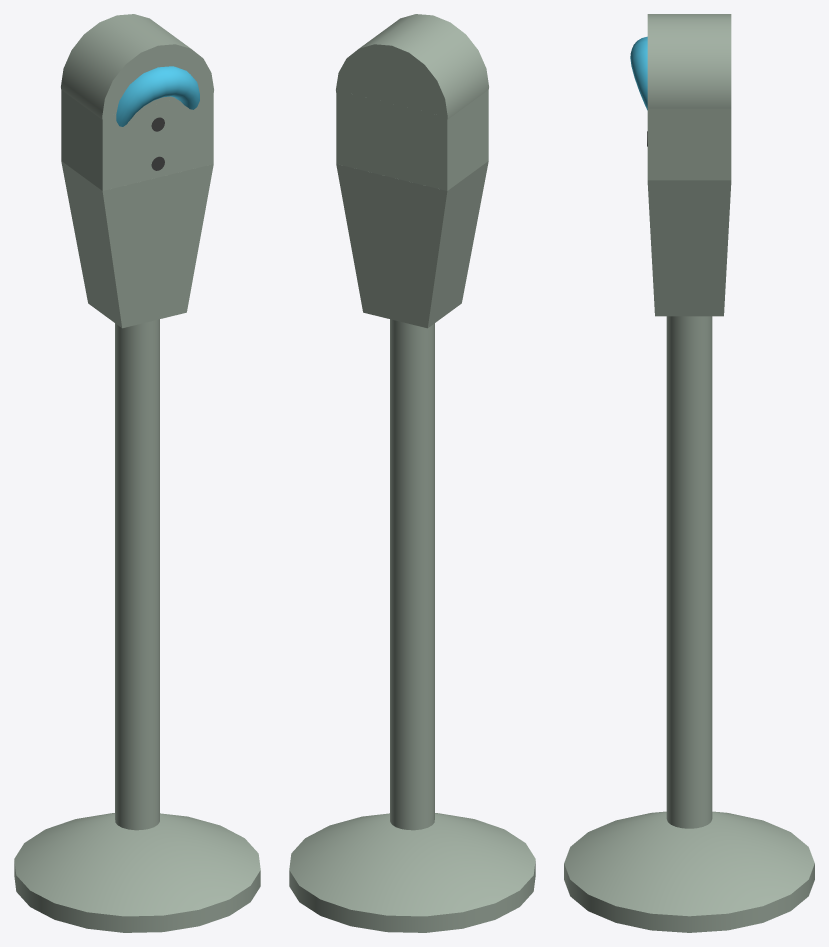
The model's file is PayToPark.fbx.
3 views of the same model, side by side, from view 1: azimuth 30°, elevation 25°; view 2: azimuth 150°, elevation 25°; view 3: azimuth 270°, elevation 25° (orthographic).
Parts seen in each view (by area): view 1: Pole.002, pCone4, pCube40, pCube41, pCylinder39, Base.004, Glass2; view 2: Pole.002, pCone4, pCube40, pCube41, pCylinder39, Base.004; view 3: Pole.002, pCone4, pCube40, pCylinder39, pCube41, Base.004, Glass2.
Boxes of the visible parts, <box> form: Pole.002: <box>115,319,159,830</box>; pCone4: <box>14,813,260,916</box>; pCube40: <box>61,161,213,328</box>; pCube41: <box>61,90,213,190</box>; pCylinder39: <box>61,14,213,119</box>; Base.004: <box>14,861,260,932</box>; Glass2: <box>116,66,199,126</box>; Pole.002: <box>390,319,434,830</box>; pCone4: <box>289,813,535,916</box>; pCube40: <box>336,161,488,328</box>; pCube41: <box>336,90,488,190</box>; pCylinder39: <box>336,14,488,119</box>; Base.004: <box>289,861,535,932</box>; Pole.002: <box>666,316,712,828</box>; pCone4: <box>564,811,814,916</box>; pCube40: <box>647,180,731,316</box>; pCylinder39: <box>647,14,731,108</box>; pCube41: <box>647,108,731,180</box>; Base.004: <box>564,863,814,932</box>; Glass2: <box>630,36,647,110</box>.
Size of the model in its own units: 44 by 167 by 44.
